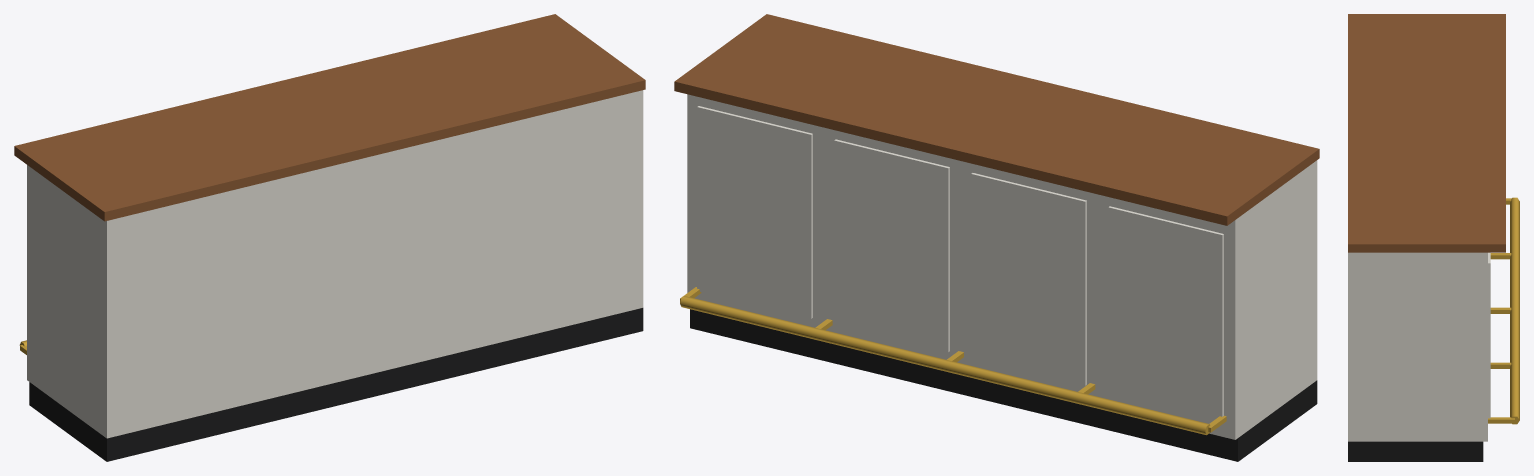
The model's file is parametric-bar-service.glb.
3 views of the same model, side by side, from view 1: azimuth 30°, elevation 25°; view 2: azimuth 150°, elevation 25°; view 3: azimuth 270°, elevation 25° (orthographic). The views are drawn at different scales.
Parts seen in each view (by area): view 1: parametric-bar-service; view 2: parametric-bar-service; view 3: parametric-bar-service.
Boxes of the visible parts, box(x1,y1,x2,y2) form: parametric-bar-service: box(14, 14, 645, 461); parametric-bar-service: box(674, 14, 1319, 461); parametric-bar-service: box(1348, 14, 1519, 461).
Size of the model in its own units: 2.42 by 1.07 by 0.762.
